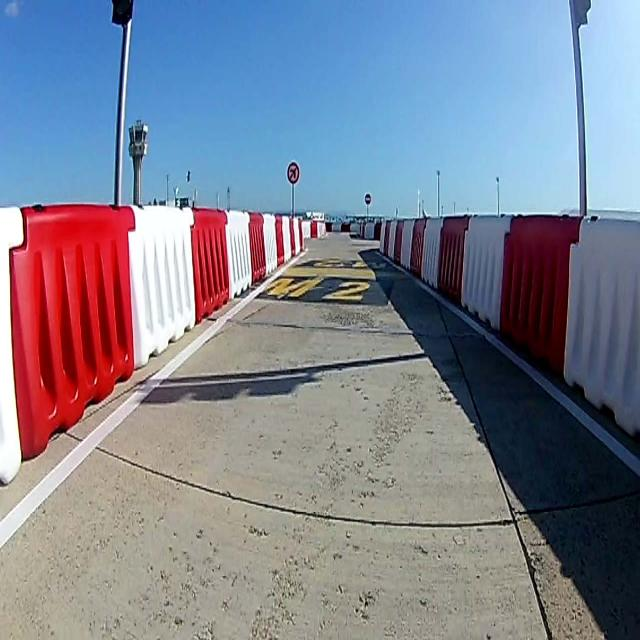soladonulmez: (288, 163, 300, 183)
